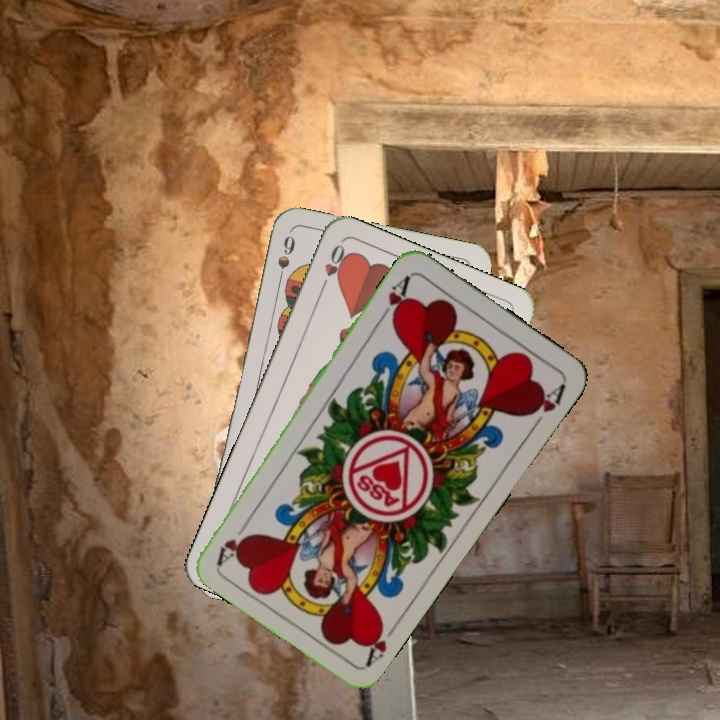HA: (360, 617, 402, 669), (376, 270, 414, 325)
HO: (315, 240, 350, 296)
S9: (273, 231, 298, 289)
